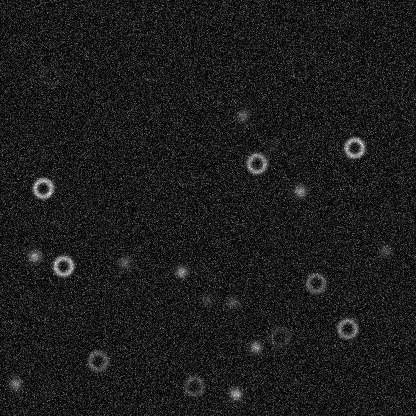Ring: (30, 176, 54, 200), (335, 316, 359, 340), (51, 253, 75, 277), (342, 135, 366, 159), (244, 151, 268, 175), (303, 271, 327, 295), (182, 373, 206, 397), (85, 348, 109, 372), (267, 325, 291, 349), (38, 64, 62, 88)
Spot: (173, 263, 189, 279), (116, 254, 132, 270), (234, 107, 250, 123), (377, 242, 393, 258), (291, 182, 307, 198), (26, 248, 42, 264), (247, 339, 263, 355), (7, 375, 23, 391), (263, 139, 279, 155), (199, 292, 215, 308), (224, 294, 240, 310), (227, 385, 243, 401)
